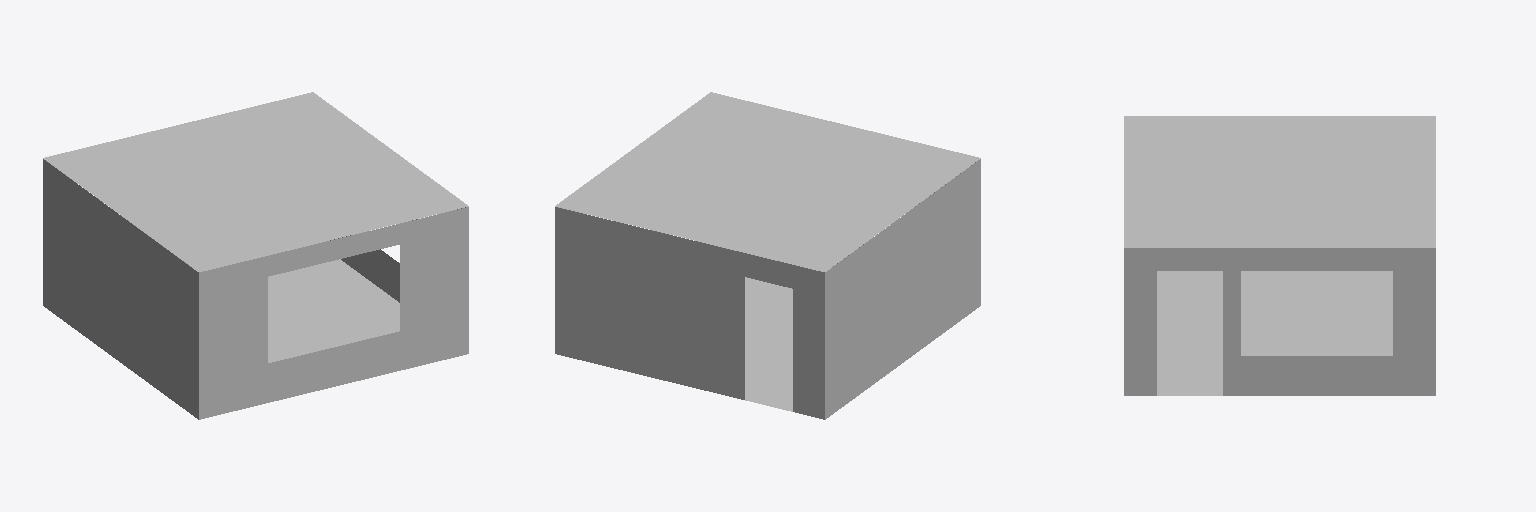
Rendered from salon.obj.
The picture shows the model from 3 angles: view 1: azimuth 30°, elevation 25°; view 2: azimuth 150°, elevation 25°; view 3: azimuth 270°, elevation 25°; orthographic projection.
Visible parts, largest first — view 1: paredes, suelo.001, suelo; view 2: paredes, suelo.001, suelo; view 3: suelo.001, paredes, suelo.
Part boxes in pixels (x1,y1,x2,y2): paredes: (43,159,468,419); suelo.001: (43,92,468,271); suelo: (194,245,399,362); paredes: (555,159,980,419); suelo.001: (555,92,980,271); suelo: (714,245,829,411); suelo.001: (1124,116,1435,247); paredes: (1124,248,1435,395); suelo: (1157,271,1392,395).
Size of the model in its own units: 5 by 2.6 by 5.